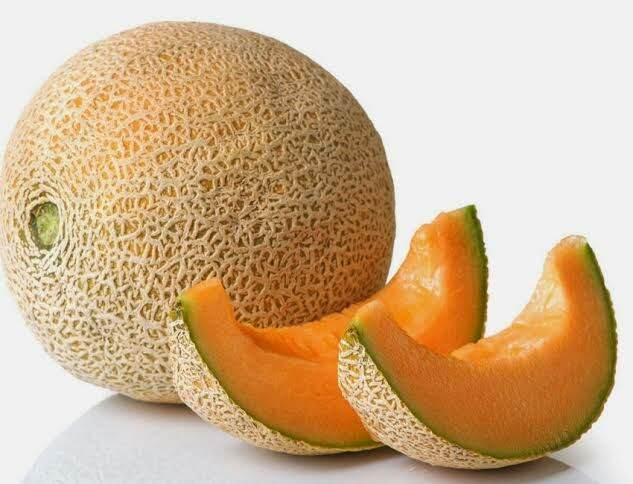Melon: (186, 198, 493, 425), (354, 223, 622, 470)
